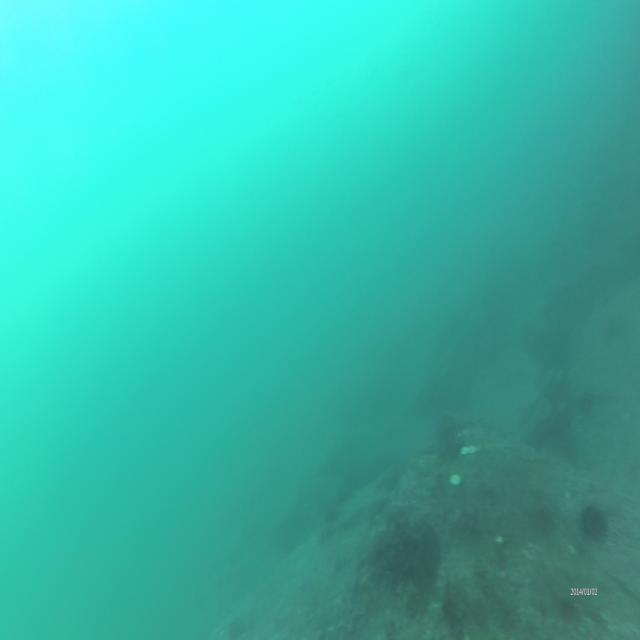echinus: (576, 501, 610, 536), (434, 413, 457, 444), (222, 614, 249, 636)
